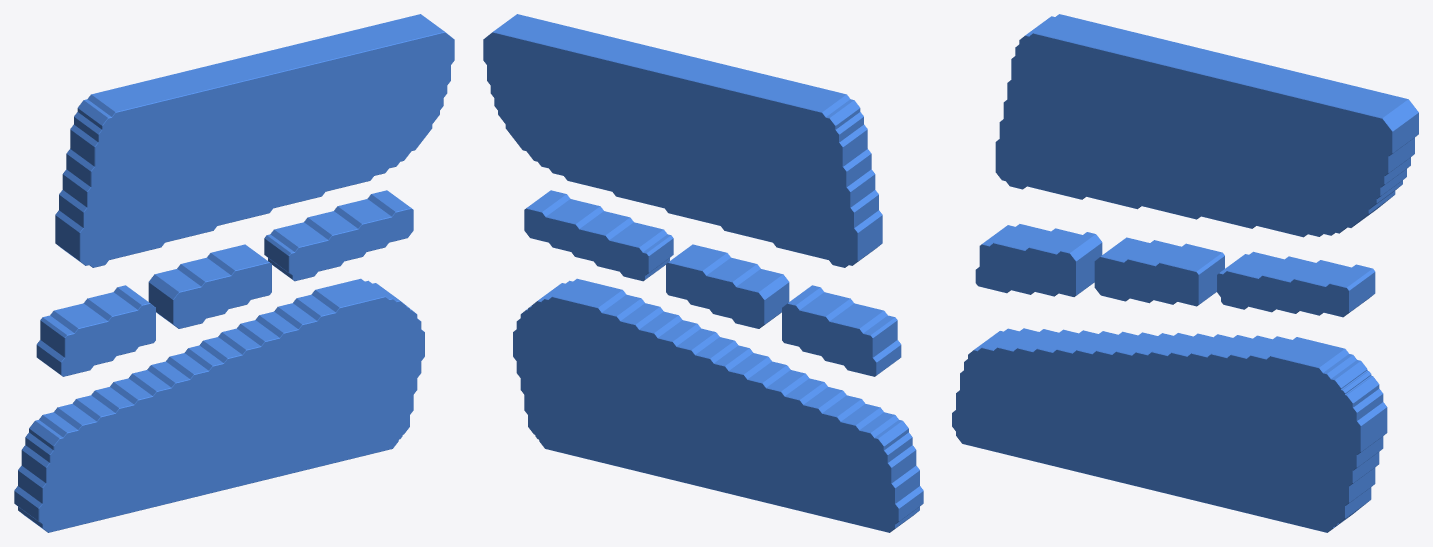
Rendered from frame_2147225956_3d.glb.
3 views of the same model, side by side, from view 1: azimuth 30°, elevation 25°; view 2: azimuth 150°, elevation 25°; view 3: azimuth 330°, elevation 25° (orthographic). The views are drawn at different scales.
Visible parts, largest first — view 1: world; view 2: world; view 3: world.
Boxes of the visible parts, x1=… form: world: x1=14, y1=14, x2=454, y2=532; world: x1=483, y1=14, x2=923, y2=532; world: x1=952, y1=14, x2=1418, y2=532.
Size of the model in its own units: 96.54 by 89.61 by 10.
